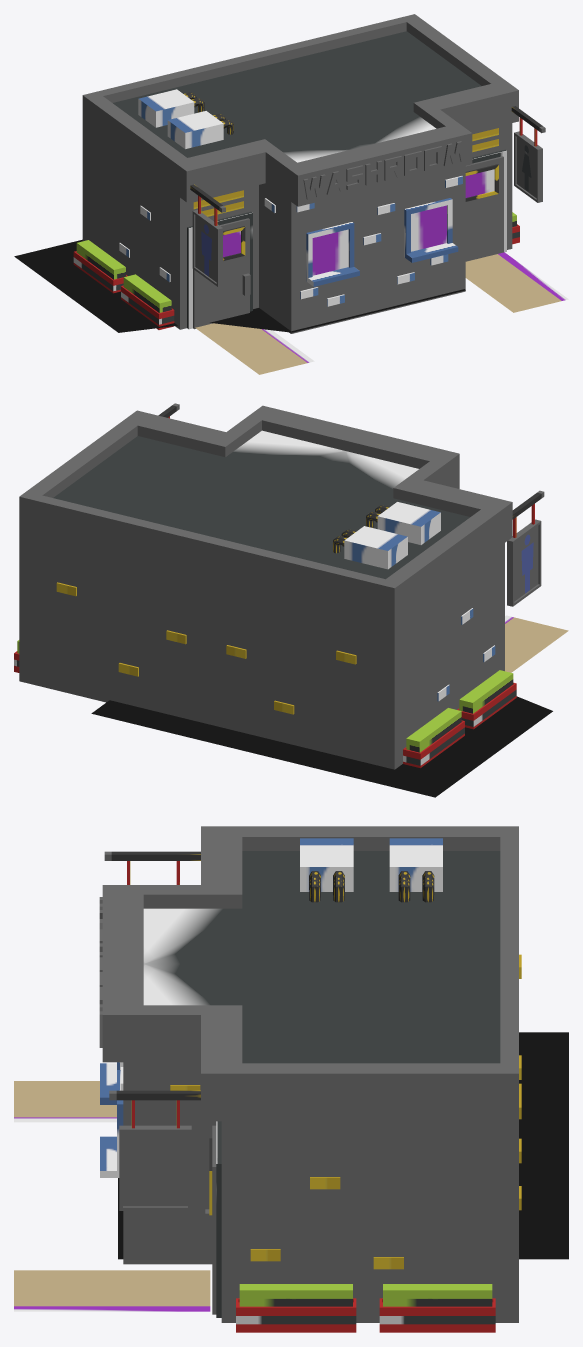
File: washroom.FBX
3 views of the same model, one above another, from view 1: azimuth 30°, elevation 25°; view 2: azimuth 150°, elevation 25°; view 3: azimuth 270°, elevation 25° (orthographic). The views are drawn at different scales.
Parts seen in each view (by area): view 1: washroom; view 2: washroom; view 3: washroom.
Boxes of the visible parts, x1,y1,x2,y2 form: washroom: [14, 14, 568, 374]; washroom: [14, 403, 568, 797]; washroom: [14, 826, 568, 1332].
Size of the model in its own units: 2198 by 905 by 1744.
